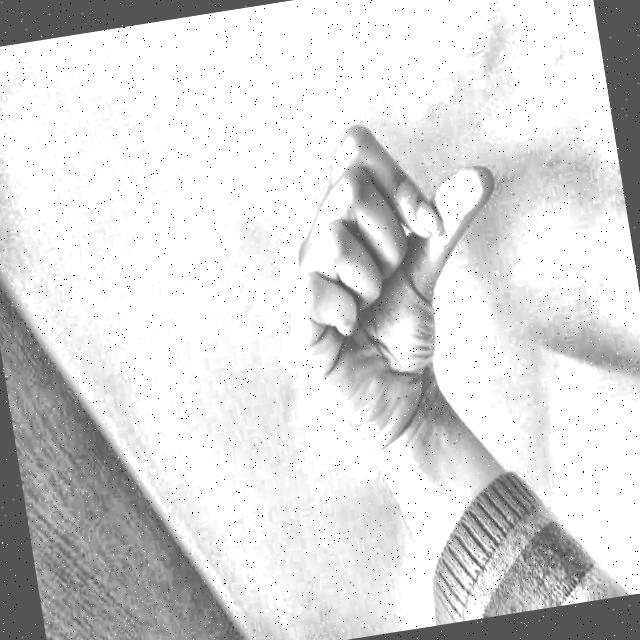Ay: (233, 79, 555, 483)
